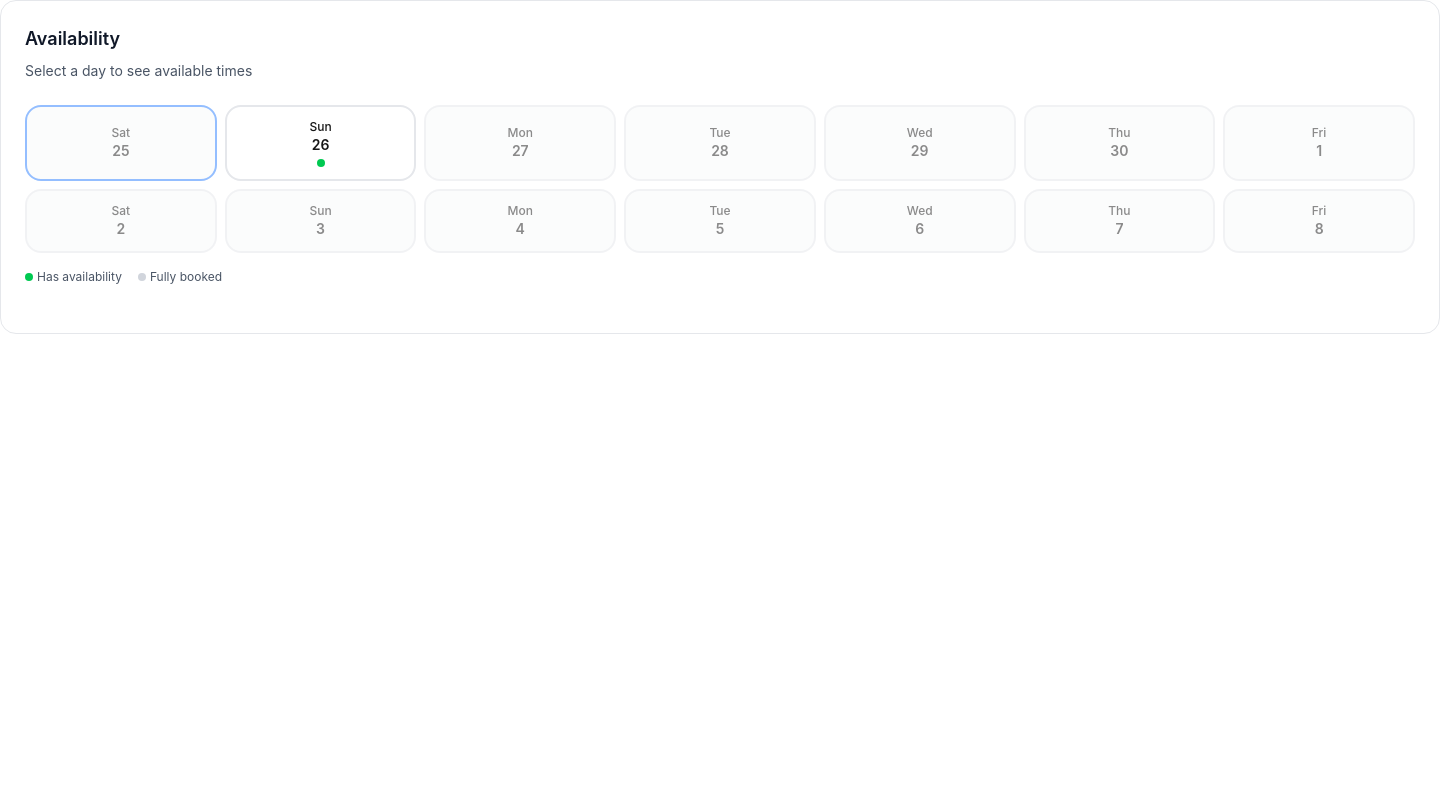
AvailabilityCalendar › with availability › groups slots by time of day
Click the button "Sun 26": (321, 143) [225, 105, 416, 181]
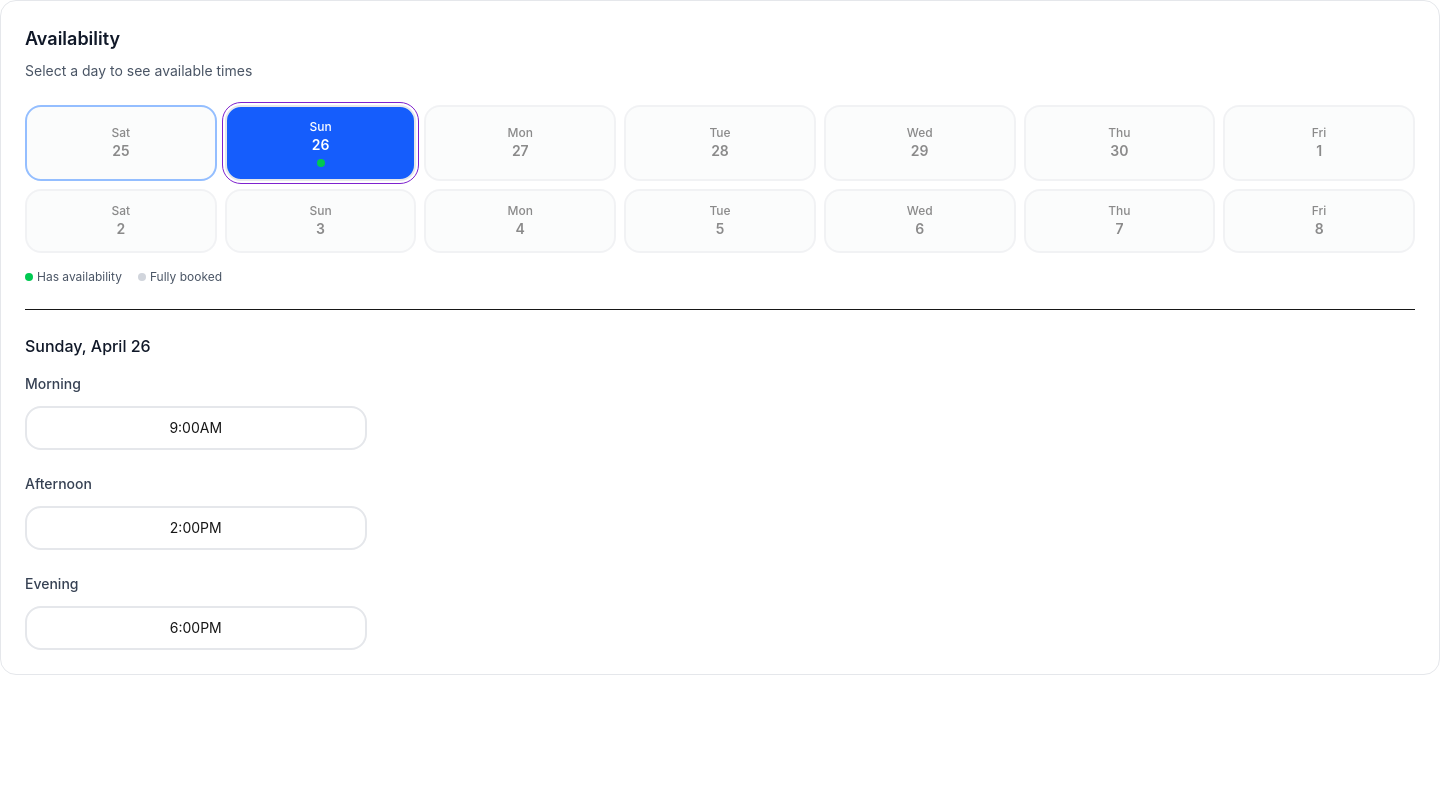
Result: the heading "Morning" is shown at [25, 375, 81, 392]
Result: the heading "Afternoon" is shown at [25, 475, 92, 492]
Result: the heading "Evening" is shown at [25, 575, 78, 592]
